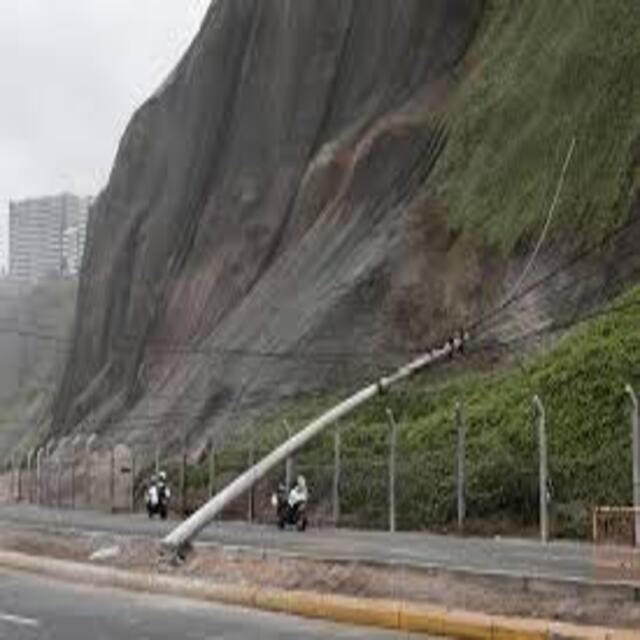Inclined Pole: (152, 136, 581, 567)
